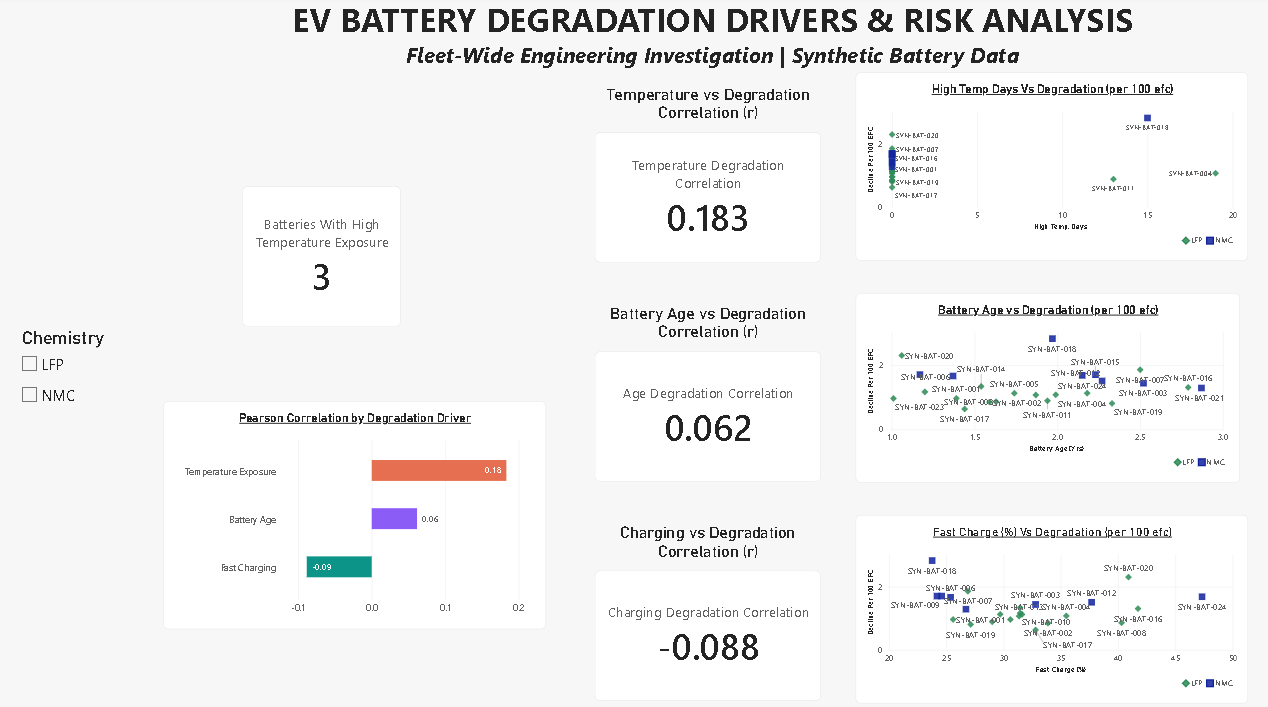

What the dashboard file says about the page in this screenshot:
{"tool":"powerbi","page":{"name":"Degradation Drivers","canvas":[1920,1080],"ordinal":2},"visuals":[{"type":"textbox","box":[287.2,2.1,1576.3,128.1],"z":0},{"type":"scatterChart","title":"High Temp Days Vs Degradation (per 100 efc)","fields":{"Category":["BatteryFleet.battery_id"],"Series":["BatteryFleet.chemistry"],"X":["Sum(BatteryFleet.HighTempDays)"],"Y":["Avg(BatteryFleet.DeclinePer100EFC)"]},"box":[1347,113.6,528.9,283],"z":1000},{"type":"cardVisual","title":"Temperature vs Degradation Correlation (r)","fields":{"Data":["BatteryFleet.Temperature Degradation Correlation"]},"box":[979.3,130.2,338.8,266.5],"z":2000},{"type":"scatterChart","title":"Battery Age vs Degradation (per 100 efc)","fields":{"Category":["BatteryFleet.battery_id"],"Series":["BatteryFleet.chemistry"],"X":["Sum(BatteryFleet.BatteryAgeYears)"],"Y":["Sum(BatteryFleet.DeclinePer100EFC)"]},"box":[1334.6,444.2,528.9,283],"z":3000},{"type":"cardVisual","title":"Battery Age vs Degradation Correlation (r)","fields":{"Data":["BatteryFleet.Age Degradation Correlation"]},"box":[979.3,425.6,338.8,266.5],"z":4000},{"type":"scatterChart","title":"Fast Charge (%) Vs Degradation (per 100 efc)","fields":{"Category":["BatteryFleet.battery_id"],"Series":["BatteryFleet.chemistry"],"X":["Sum(BatteryFleet.FastChargePct)"],"Y":["Sum(BatteryFleet.DeclinePer100EFC)"]},"box":[1347,774.7,528,283],"z":5000},{"type":"cardVisual","title":"Charging vs Degradation Correlation (r)","fields":{"Data":["BatteryFleet.Charging Degradation Correlation"]},"box":[979.3,785.1,338,266.5],"z":6000},{"type":"clusteredBarChart","title":"Pearson Correlation by Degradation Driver","fields":{"Category":["DegradationDrivers.Driver"],"Y":["DegradationDrivers.Driver Correlation r"]},"box":[361.5,603.3,572.3,340.9],"z":7000},{"type":"slicer","fields":{"Values":["BatteryFleet.chemistry"]},"box":[33.1,495.8,198.3,126],"z":7001},{"type":"cardVisual","fields":{"Data":["DegradationDrivers.Batteries With High Temperature Exposure"]},"box":[553.7,312,237.6,210.7],"z":7002}]}

Visuals, with their boxes in screenshot pixels (x1, y1, x2, y2), scaled from the page's 1920x1080 canvas onto the 1268x707 screenshot:
textbox: BBox(190, 1, 1231, 85)
"High Temp Days Vs Degradation (per 100 efc)" scatterChart: BBox(890, 74, 1239, 260)
"Temperature vs Degradation Correlation (r)" cardVisual: BBox(647, 85, 870, 260)
"Battery Age vs Degradation (per 100 efc)" scatterChart: BBox(881, 291, 1231, 476)
"Battery Age vs Degradation Correlation (r)" cardVisual: BBox(647, 279, 870, 453)
"Fast Charge (%) Vs Degradation (per 100 efc)" scatterChart: BBox(890, 507, 1238, 692)
"Charging vs Degradation Correlation (r)" cardVisual: BBox(647, 514, 870, 688)
"Pearson Correlation by Degradation Driver" clusteredBarChart: BBox(239, 395, 617, 618)
slicer - BatteryFleet.chemistry: BBox(22, 325, 153, 407)
cardVisual - DegradationDrivers.Batteries With High Temperature Exposure: BBox(366, 204, 523, 342)
